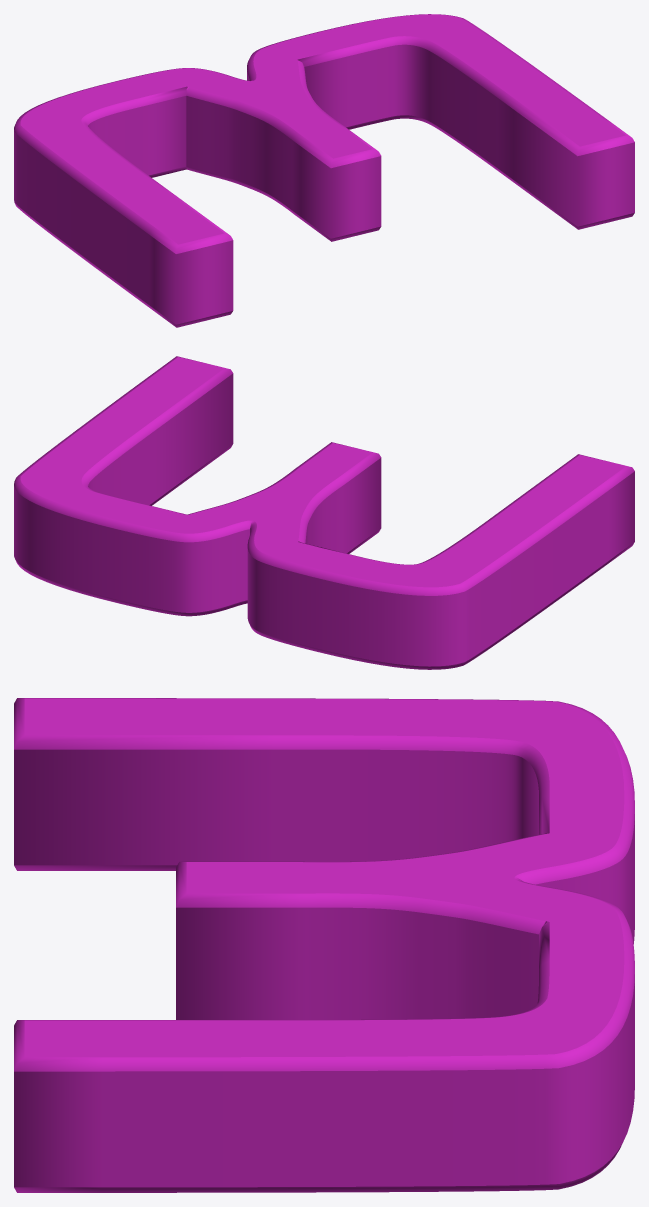
Rendered from Letter_w_CoolFont.fbx.
The picture shows the model from 3 angles, top to bottom: view 1: azimuth 30°, elevation 25°; view 2: azimuth 150°, elevation 25°; view 3: azimuth 270°, elevation 25°; orthographic projection. The views are drawn at different scales.
Visible parts, largest first — view 1: Letter_w; view 2: Letter_w; view 3: Letter_w.
Part boxes in pixels (bbox=[...]): Letter_w: bbox=[14, 14, 634, 327]; Letter_w: bbox=[14, 356, 634, 669]; Letter_w: bbox=[14, 698, 634, 1192].
Size of the model in its own units: 0.8171 by 0.14 by 0.5828.
